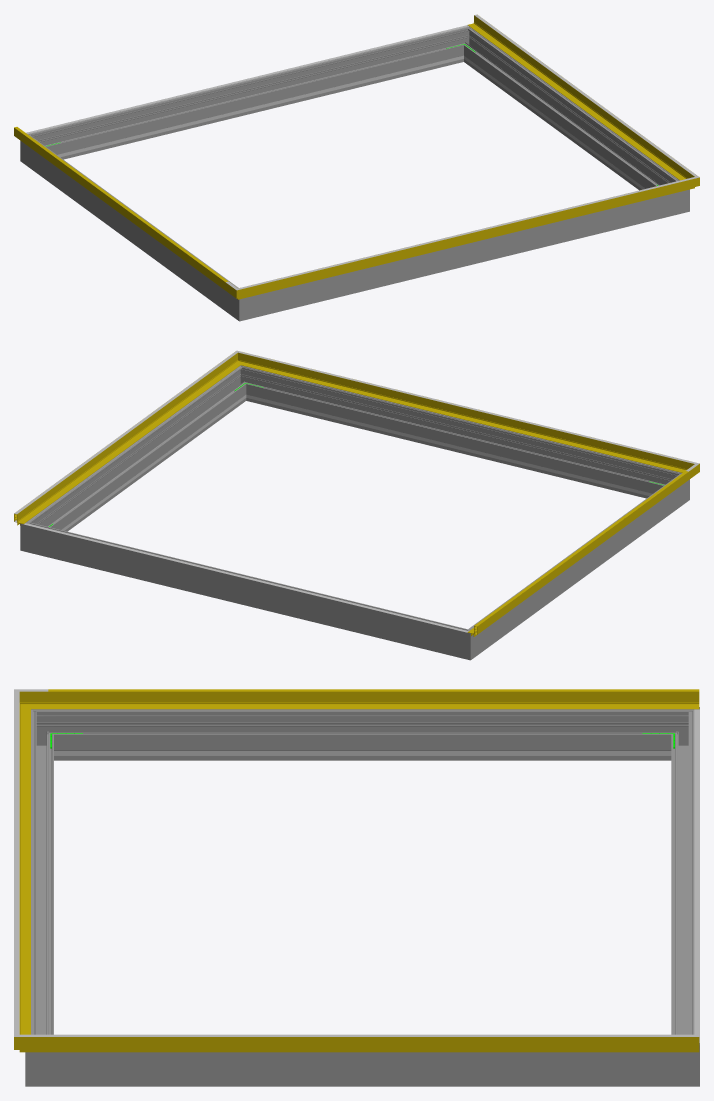
3 renders of one model, top to bottom at view 1: azimuth 30°, elevation 25°; view 2: azimuth 150°, elevation 25°; view 3: azimuth 270°, elevation 25°, orthographic. The views are drawn at different scales.
Visible parts, largest first — view 1: 3DGeom-276, 3DGeom-298, 3DGeom-297, 3DGeom-268, 3DGeom-56, 3DGeom-58, 3DGeom-50, 3DGeom-244, 3DGeom-220, 3DGeom-66, 3DGeom-64, 3DGeom-71 (+3 smaller); view 2: 3DGeom-298, 3DGeom-276, 3DGeom-297, 3DGeom-56, 3DGeom-268, 3DGeom-58, 3DGeom-50, 3DGeom-239, 3DGeom-220, 3DGeom-66, 3DGeom-278, 3DGeom-71 (+4 smaller); view 3: 3DGeom-268, 3DGeom-297, 3DGeom-50, 3DGeom-58, 3DGeom-276, 3DGeom-298, 3DGeom-56, 3DGeom-232, 3DGeom-220, 3DGeom-71, 3DGeom-64, 3DGeom-66 (+5 smaller).
Boxes of the visible parts, x1,y1,x2,y2 form: 3DGeom-276: (41, 30, 460, 159); 3DGeom-298: (258, 194, 670, 316); 3DGeom-297: (465, 33, 674, 190); 3DGeom-268: (31, 141, 234, 312); 3DGeom-56: (254, 182, 680, 295); 3DGeom-58: (468, 15, 685, 179); 3DGeom-50: (14, 127, 225, 290); 3DGeom-244: (64, 60, 445, 156); 3DGeom-220: (26, 25, 468, 133); 3DGeom-66: (254, 181, 680, 285); 3DGeom-64: (474, 14, 688, 169); 3DGeom-71: (14, 127, 228, 282); 3DGeom-298: (249, 369, 668, 498); 3DGeom-276: (39, 525, 454, 655); 3DGeom-297: (34, 372, 244, 531); 3DGeom-56: (250, 356, 678, 471); 3DGeom-268: (475, 480, 678, 651); 3DGeom-58: (14, 359, 234, 525); 3DGeom-50: (467, 472, 688, 636); 3DGeom-239: (265, 399, 645, 495); 3DGeom-220: (23, 523, 468, 632); 3DGeom-66: (254, 355, 680, 459); 3DGeom-278: (451, 624, 481, 660); 3DGeom-71: (474, 471, 688, 626); 3DGeom-268: (59, 709, 665, 760); 3DGeom-297: (59, 1052, 665, 1086); 3DGeom-50: (48, 691, 699, 709); 3DGeom-58: (48, 1037, 699, 1052); 3DGeom-276: (671, 721, 694, 1034); 3DGeom-298: (31, 721, 53, 1034); 3DGeom-56: (19, 715, 30, 1034); 3DGeom-232: (87, 751, 638, 755); 3DGeom-220: (694, 709, 699, 1043); 3DGeom-71: (48, 689, 699, 691); 3DGeom-64: (48, 1034, 699, 1036); 3DGeom-66: (14, 703, 19, 1022).
Size of the model in its own units: 3.66 by 0.2669 by 3.05.
